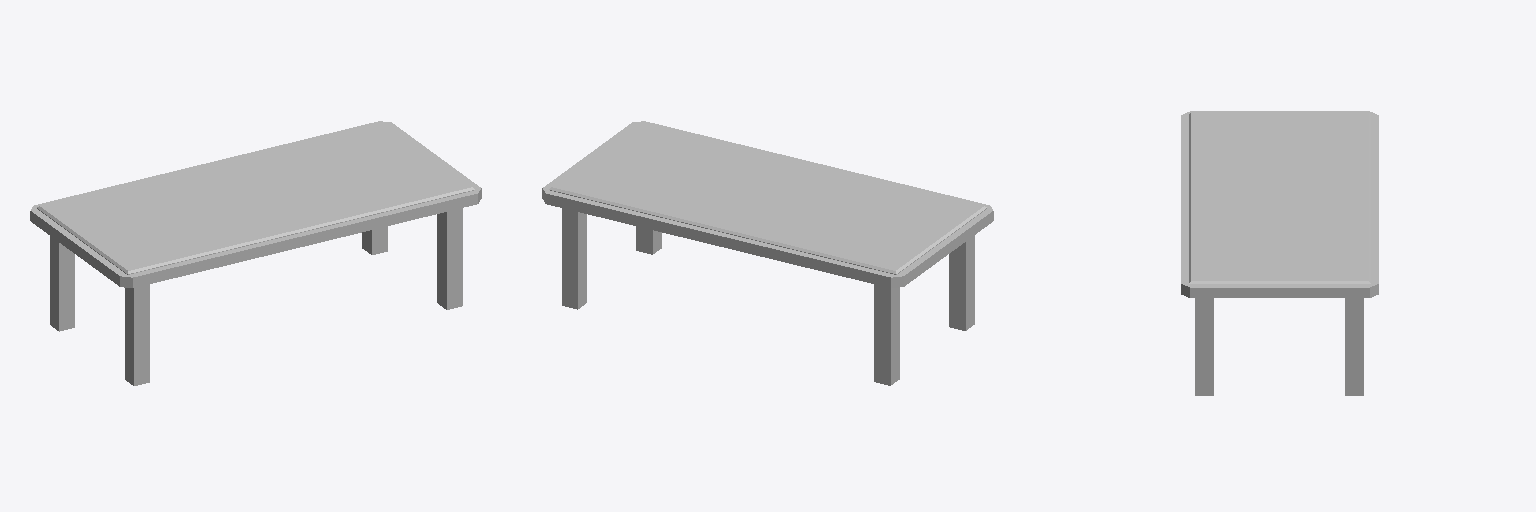
File: table2.obj
3 renders of one model, left to right at view 1: azimuth 30°, elevation 25°; view 2: azimuth 150°, elevation 25°; view 3: azimuth 270°, elevation 25°, orthographic.
Parts seen in each view (by area): view 1: table; view 2: table; view 3: table.
Boxes of the visible parts, box(x1,y1,x2,y2) form: table: box(30, 121, 481, 385); table: box(542, 121, 993, 385); table: box(1181, 111, 1378, 395).
Size of the model in its own units: 437 by 137 by 207.